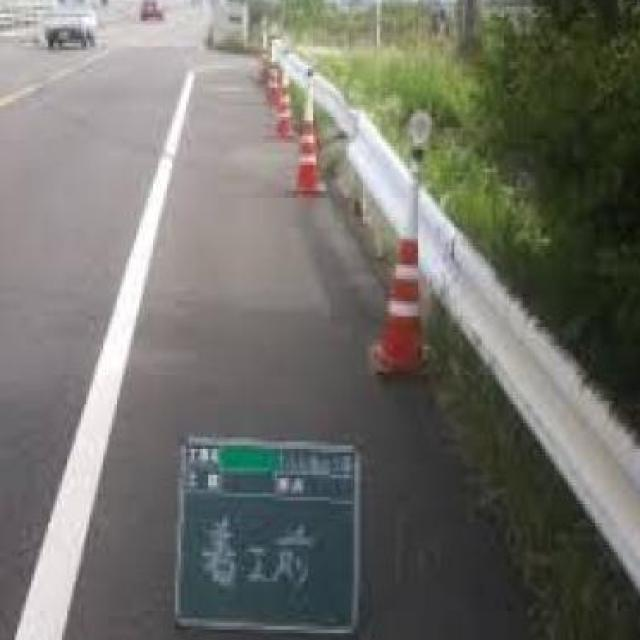Guard rail: (266, 29, 640, 640)
